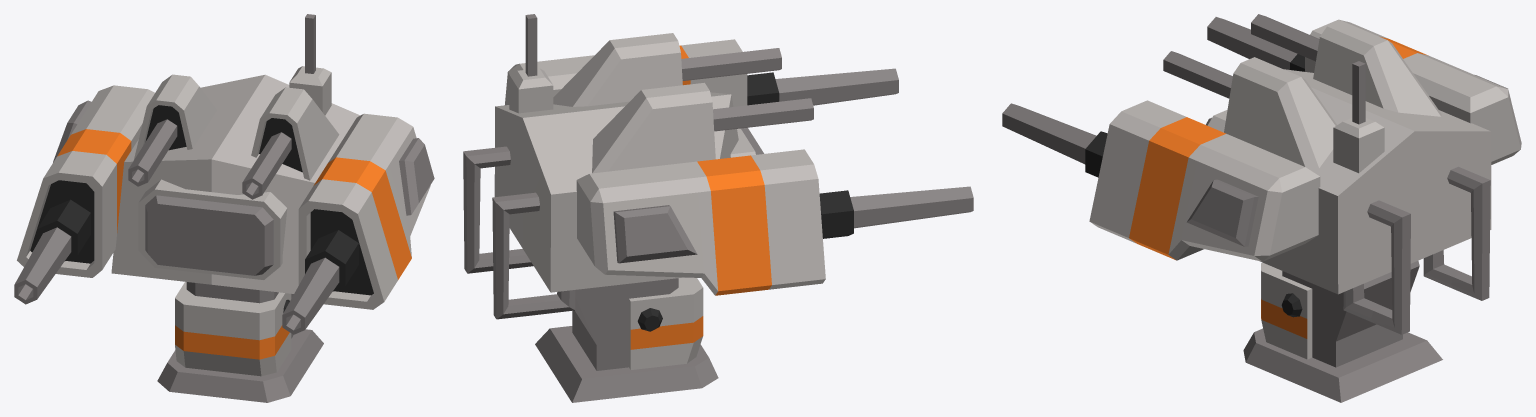
File: scifi-turret-head-artillery-big.fbx
3 views of the same model, side by side, from view 1: azimuth 30°, elevation 25°; view 2: azimuth 150°, elevation 25°; view 3: azimuth 270°, elevation 25° (orthographic). The views are drawn at different scales.
Parts seen in each view (by area): view 1: scifi_turret_head_artillery_big; view 2: scifi_turret_head_artillery_big; view 3: scifi_turret_head_artillery_big.
Part boxes in pixels (box(x1,y1,x2,y2)): scifi_turret_head_artillery_big: box(14, 14, 434, 402); scifi_turret_head_artillery_big: box(463, 14, 973, 402); scifi_turret_head_artillery_big: box(1002, 14, 1521, 402).
Size of the model in its own units: 460 by 329 by 460.
